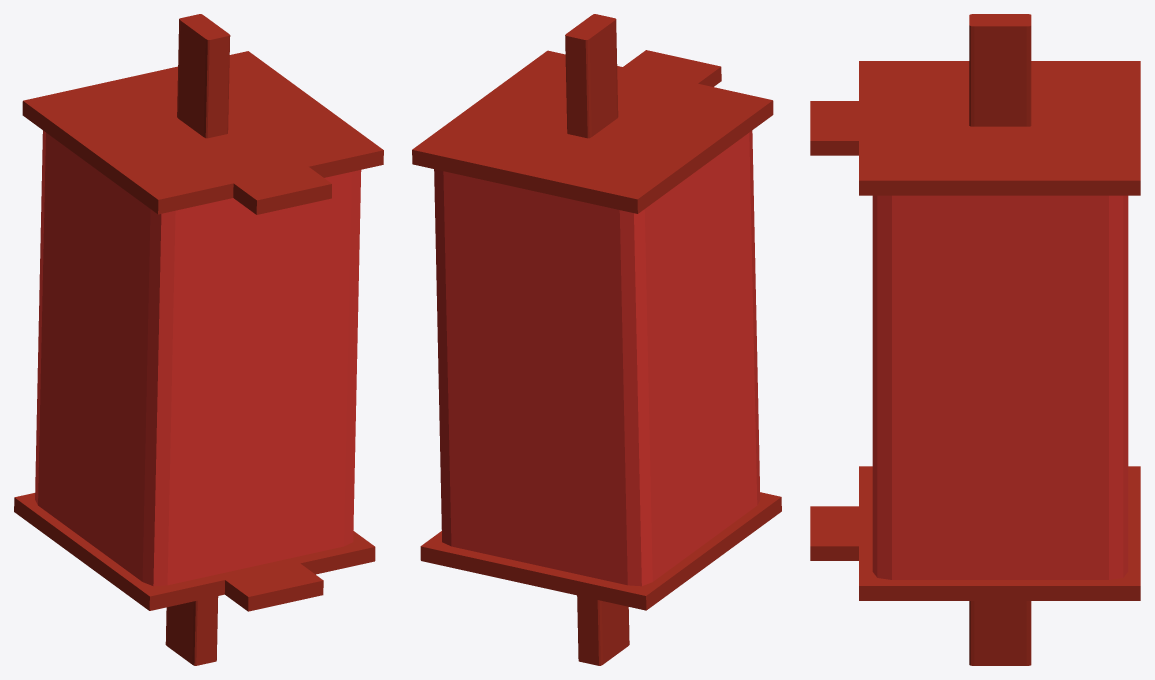
Rendered from mespatroon-fuse-block.fbx.
3 renders of one model, left to right at view 1: azimuth 30°, elevation 25°; view 2: azimuth 150°, elevation 25°; view 3: azimuth 270°, elevation 25°, orthographic. The views are drawn at different scales.
Parts seen in each view (by area): view 1: 07-fuse-block-M.001; view 2: 07-fuse-block-M.001; view 3: 07-fuse-block-M.001.
Boxes of the visible parts, x1,y1,x2,y2 form: 07-fuse-block-M.001: (14, 14, 383, 665); 07-fuse-block-M.001: (412, 14, 781, 665); 07-fuse-block-M.001: (810, 14, 1140, 665).
Bounding box in the file's own units: 198 × 504 × 233.
